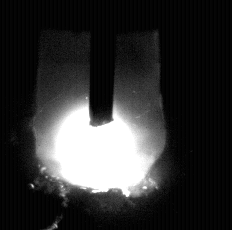arame: (91, 0, 115, 126)
poca: (34, 0, 165, 230)
